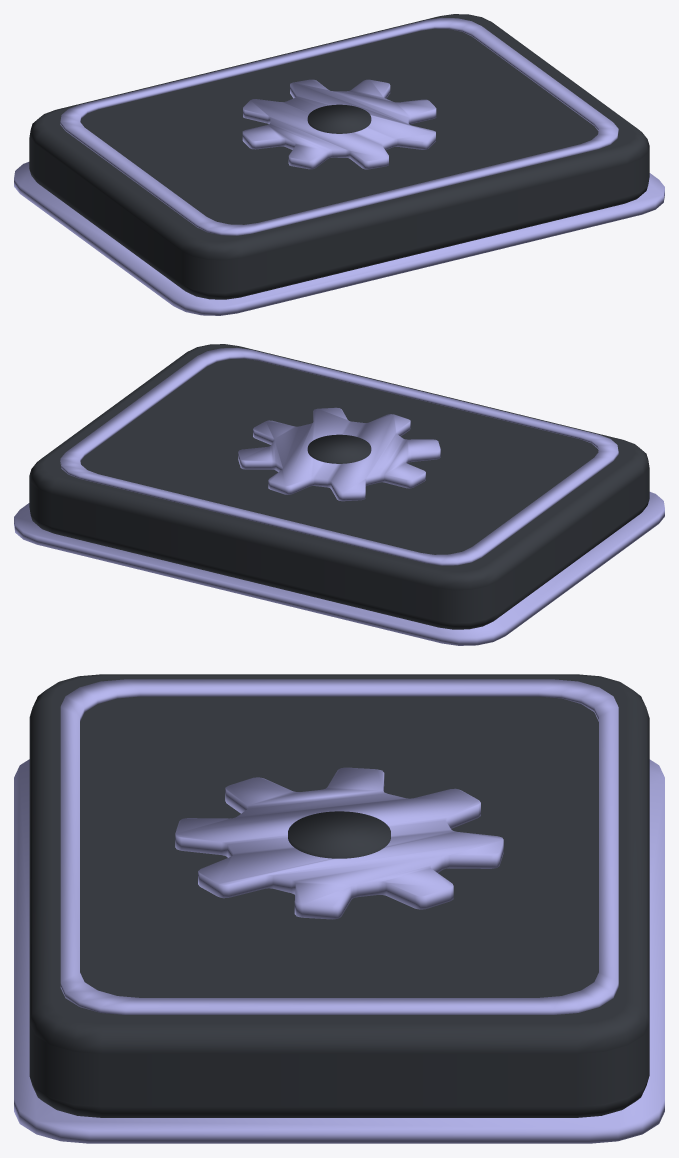
File: rule.glb
3 views of the same model, one above another, from view 1: azimuth 30°, elevation 25°; view 2: azimuth 150°, elevation 25°; view 3: azimuth 270°, elevation 25° (orthographic). The views are drawn at different scales.
Parts seen in each view (by area): view 1: module, edge, rim, gear, gear-hole; view 2: module, edge, rim, gear, gear-hole; view 3: module, edge, rim, gear, gear-hole.
Part boxes in pixels (<box>): module: <box>29,14,649,299</box>; edge: <box>60,17,618,235</box>; rim: <box>14,162,664,315</box>; gear: <box>242,79,436,169</box>; gear-hole: <box>307,104,371,133</box>; module: <box>29,344,649,629</box>; edge: <box>60,347,618,565</box>; rim: <box>14,492,664,645</box>; gear: <box>238,407,440,501</box>; gear-hole: <box>307,434,371,463</box>; module: <box>29,674,649,1117</box>; edge: <box>60,679,618,1014</box>; rim: <box>14,759,664,1143</box>; gear: <box>175,767,503,919</box>; gear-hole: <box>288,811,390,858</box>.
Size of the model in its own units: 0.882 by 0.126 by 0.63.
